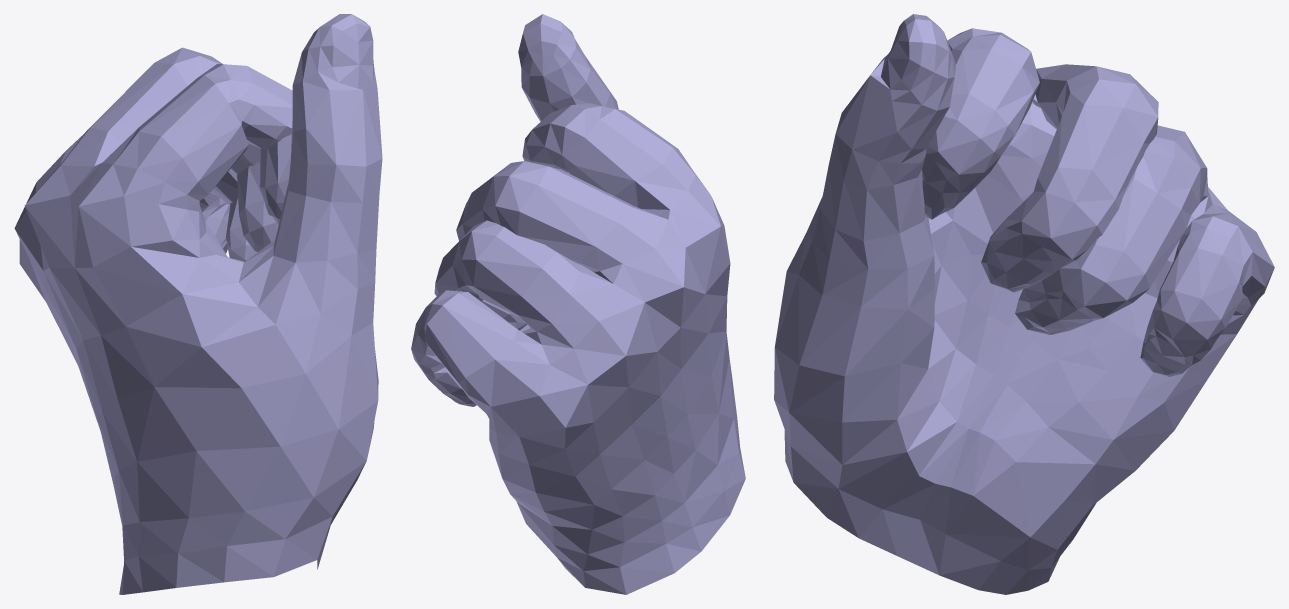
Rendered from frame_0076_source_000076_hand.glb.
The picture shows the model from 3 angles, left to right: view 1: azimuth 30°, elevation 25°; view 2: azimuth 150°, elevation 25°; view 3: azimuth 270°, elevation 25°; orthographic projection. The views are drawn at different scales.
Visible parts, largest first — view 1: world; view 2: world; view 3: world.
Boxes of the visible parts, x1,y1,x2,y2 form: world: (14, 14, 382, 594); world: (411, 14, 745, 594); world: (774, 14, 1274, 594).
Bounding box in the file's own units: 0.0624 × 0.1273 × 0.0931.
